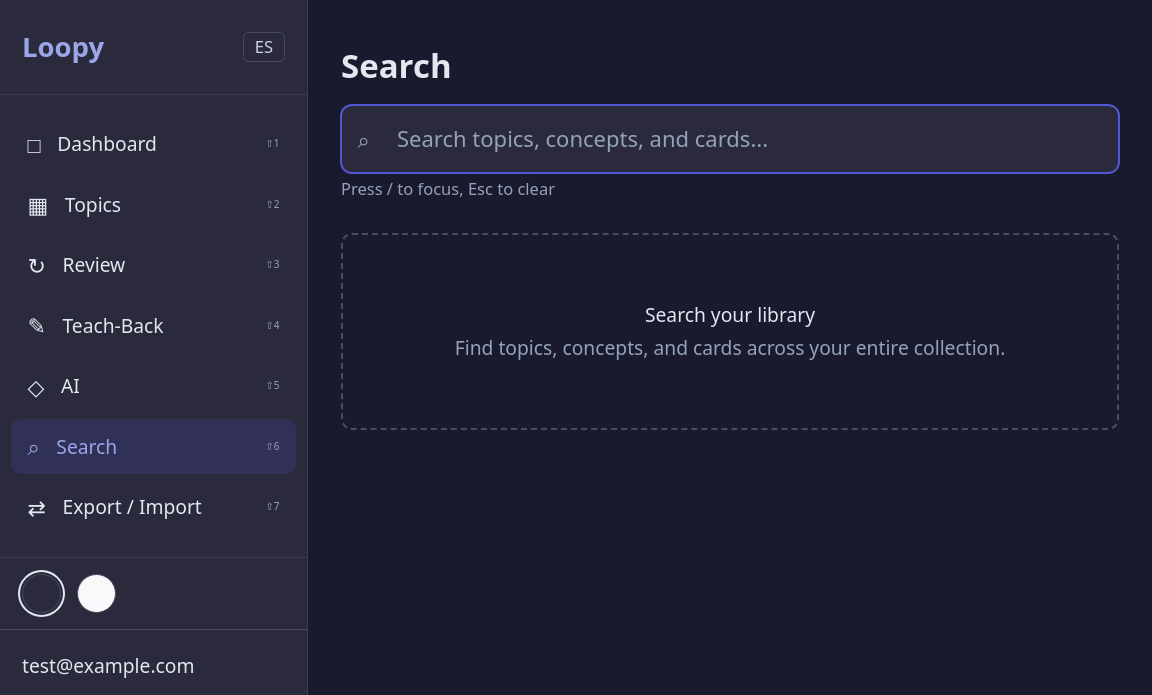
E2E-style Integration Tests › Search flow -> type query -> see results › shows no results for unmatched query
Expected: the heading "Search" is shown, [341,43,452,88]
Type "xyznonexistent" into the field with placeholder "Search topics, concepts, and cards..." at [730, 138], box [341,104,1119,172]
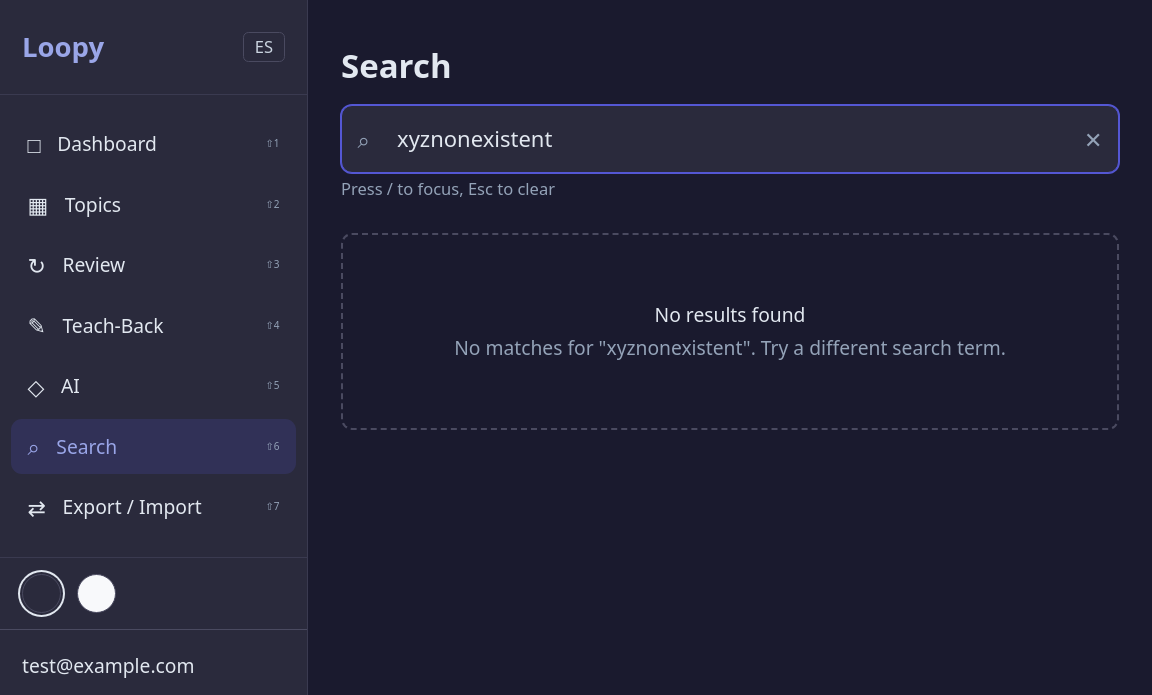
Expected: the heading "No results found" is shown, [655,301,806,328]
